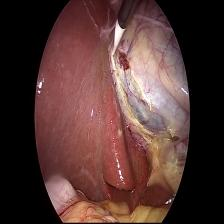Hook: (110, 20, 128, 58)
